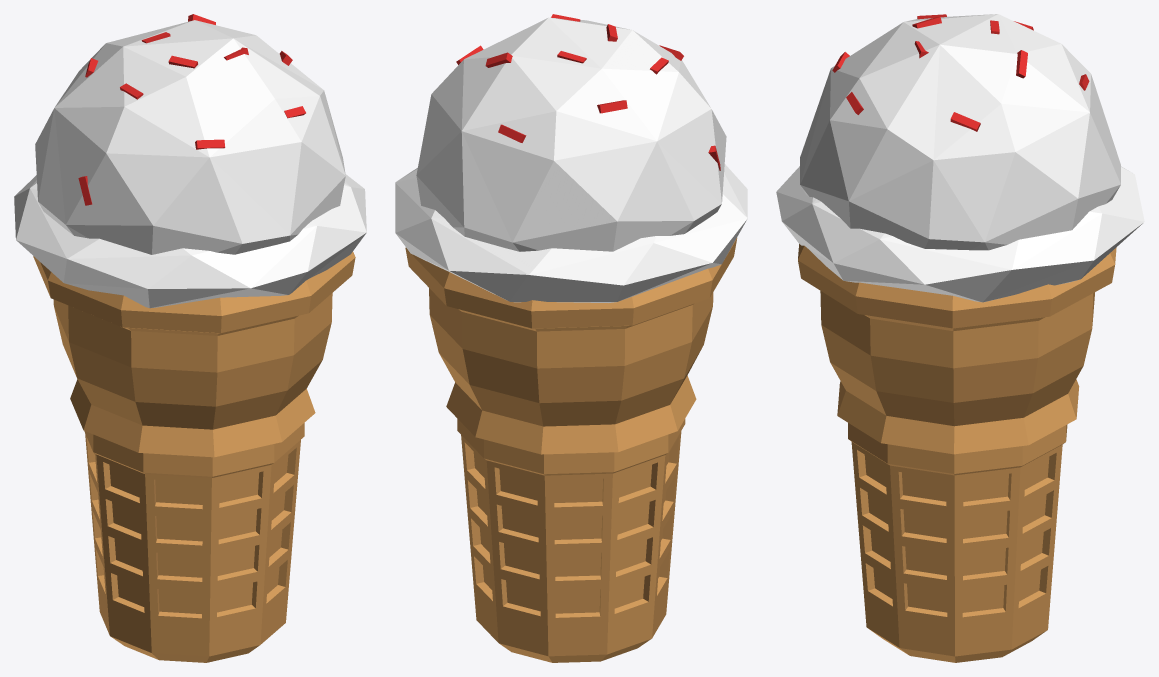
The model's file is IceCream_3.obj.
3 views of the same model, side by side, from view 1: azimuth 30°, elevation 25°; view 2: azimuth 150°, elevation 25°; view 3: azimuth 270°, elevation 25° (orthographic).
Visible parts, largest first — view 1: IceCream_3_LightYellow, IceCream_3_White, IceCream_3_Red; view 2: IceCream_3_LightYellow, IceCream_3_White, IceCream_3_Red; view 3: IceCream_3_LightYellow, IceCream_3_White, IceCream_3_Red.
Part boxes in pixels (box(x1,y1,x2,y2)): IceCream_3_LightYellow: box(33, 252, 355, 662); IceCream_3_White: box(14, 20, 366, 308); IceCream_3_Red: box(78, 14, 305, 205); IceCream_3_LightYellow: box(405, 238, 737, 662); IceCream_3_White: box(395, 17, 747, 302); IceCream_3_Red: box(456, 14, 720, 170); IceCream_3_LightYellow: box(798, 244, 1116, 662); IceCream_3_White: box(776, 14, 1144, 302); IceCream_3_Red: box(832, 14, 1089, 131).
Bounding box in the file's own units: 0.5155 × 0.9274 × 0.5155.
